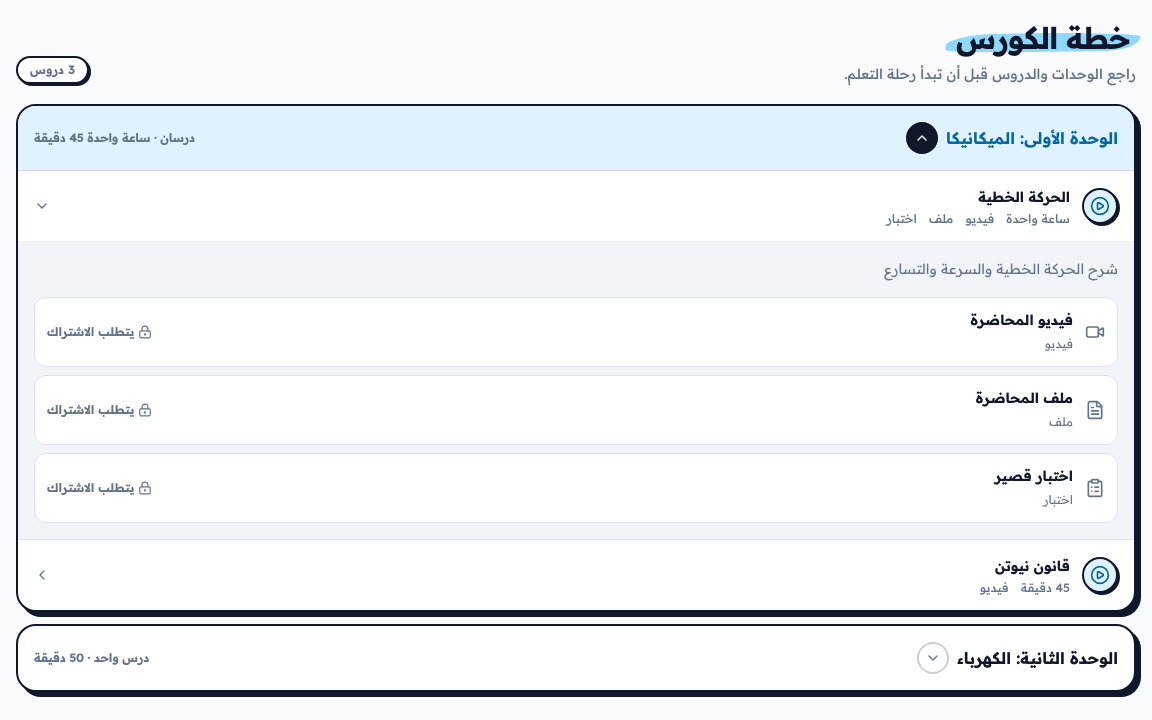
Test case: StudentCourseDetailPreview › expand works for second chapter
(page scrolled)
Click the button "الوحدة الثانية: الكهرباء" at (1038, 658), box [18,626,1134,690]
(page scrolled)
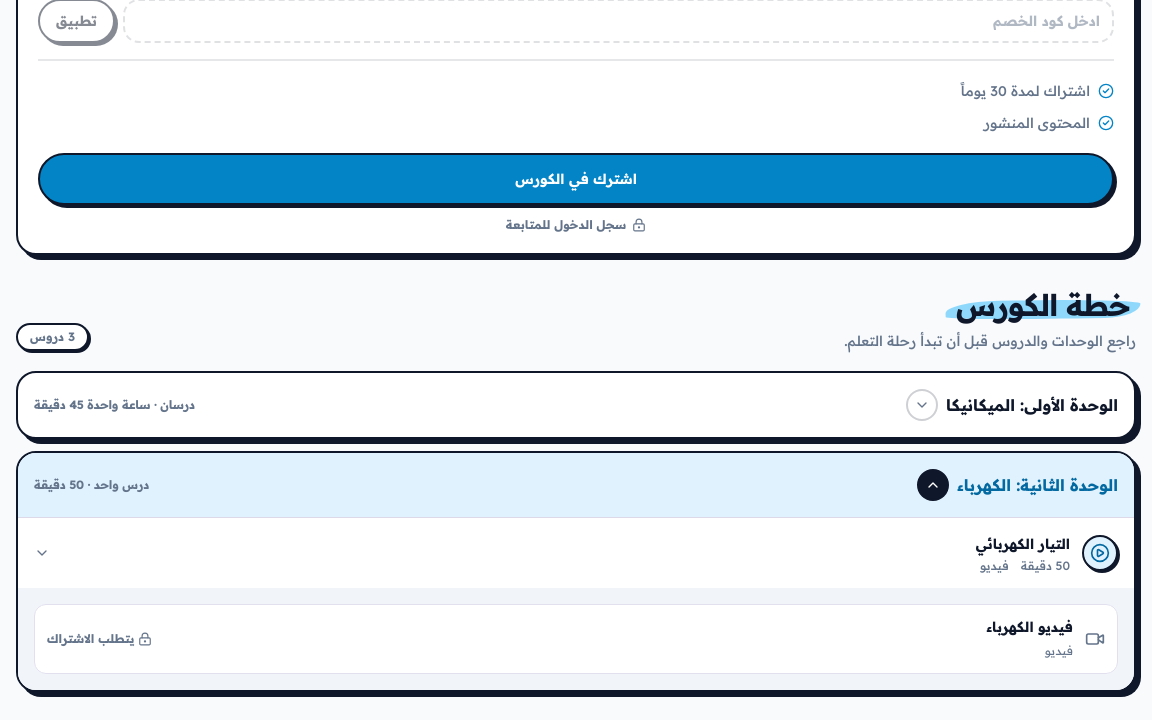
Expected: the text "التيار الكهربائي" is shown, [976,535,1070,553]
